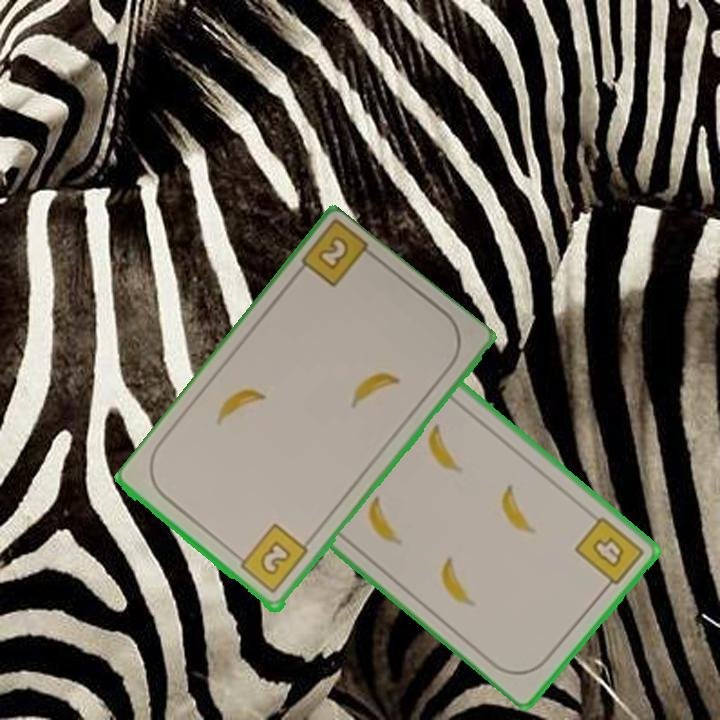2b: (232, 521, 311, 597), (313, 232, 353, 274)
4b: (571, 512, 647, 595)
